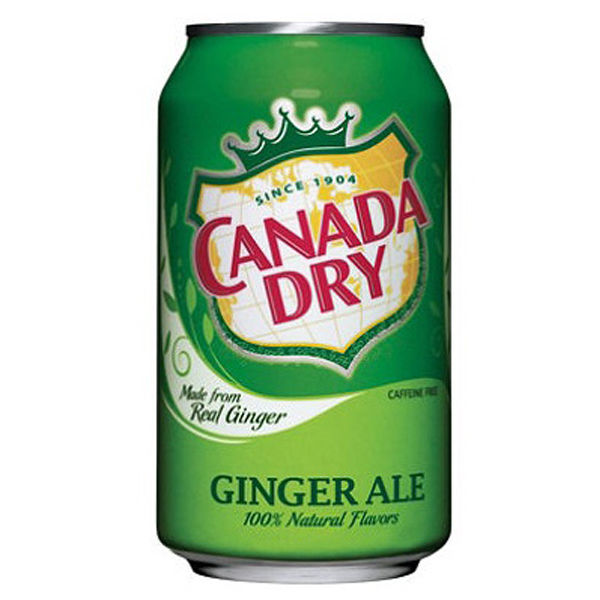Lata: (153, 16, 455, 584)
